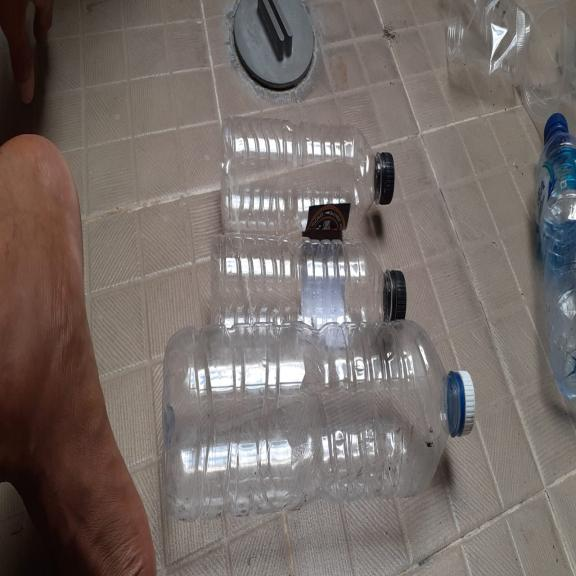Plastik: (162, 317, 481, 513), (205, 224, 410, 346), (219, 110, 396, 234), (534, 104, 576, 402)
